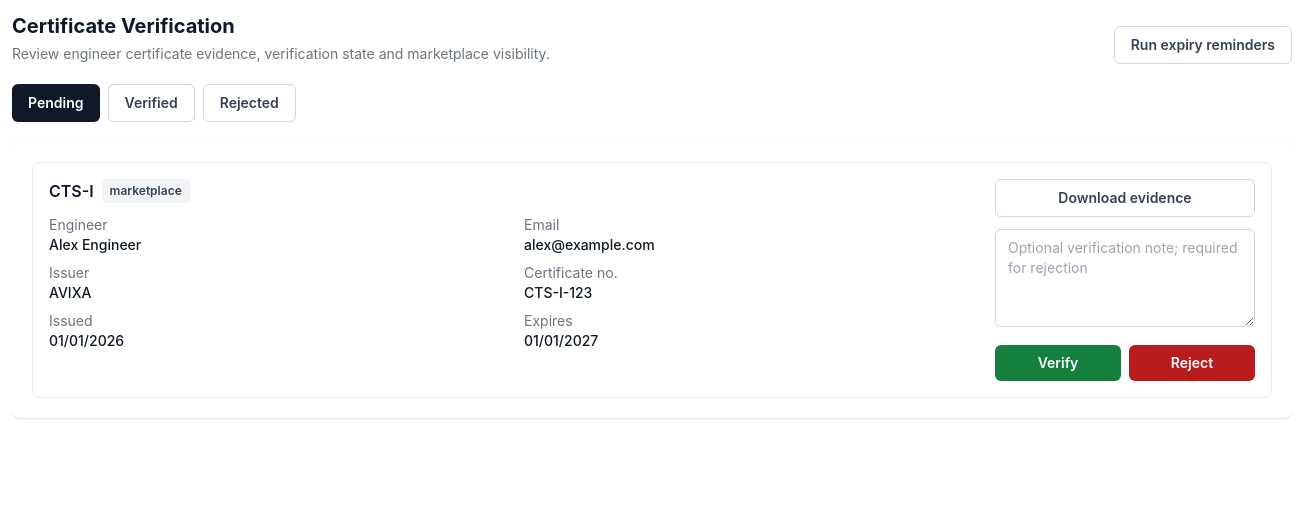
Scenario: CertificateVerificationView › requires a meaningful rejection reason and can run expiry reminders
The width and height of the screenshot is (1304, 510).
Expected: the heading "CTS-I" is shown, [49,179,94,203]
Click the button "Reject". click: (1192, 363)
box: [1129,345,1255,381]
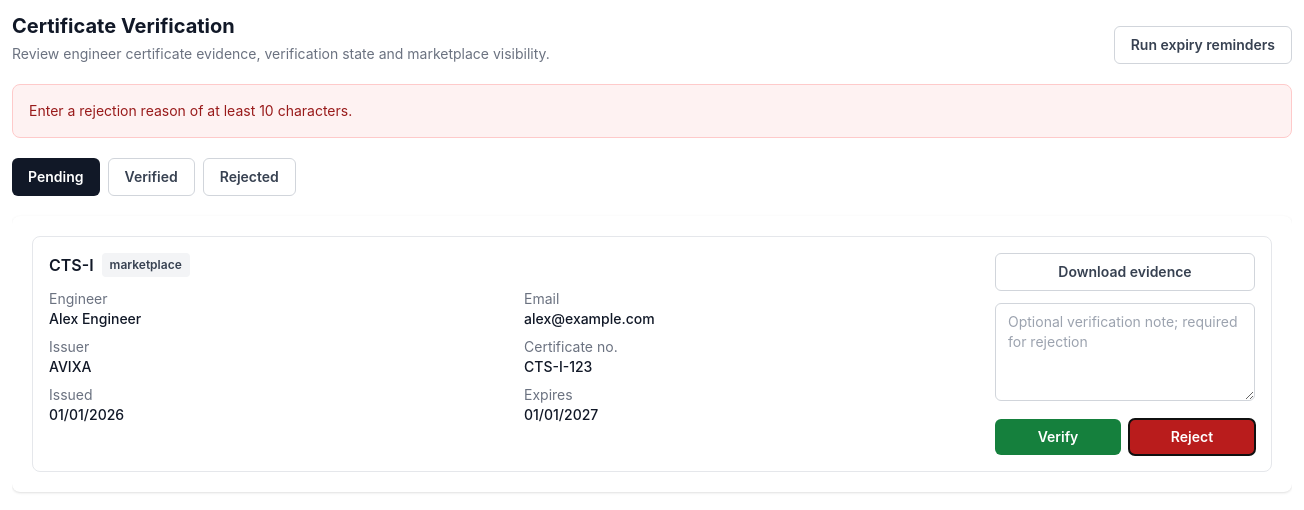
Now the message shows "at least 10 characters", box [29,102,352,119]
Click the button "Run expiry reminders". click: (1203, 45)
box: [1114,26,1292,64]
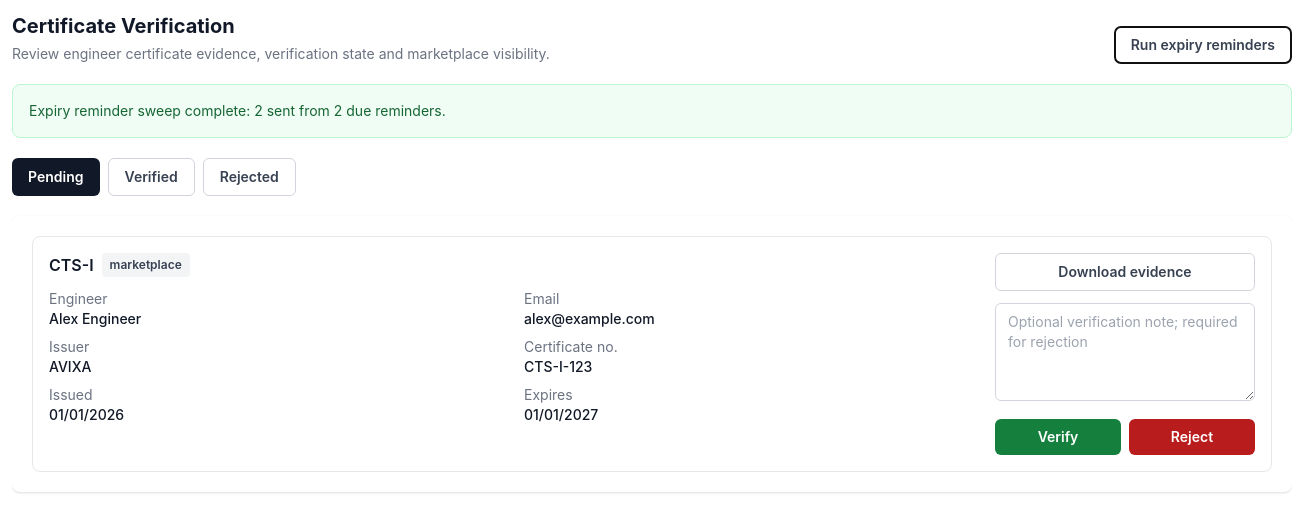
Now the text "Expiry reminder sweep complete: 2 sent from 2 due reminders." is shown, box [12,84,1292,138]
